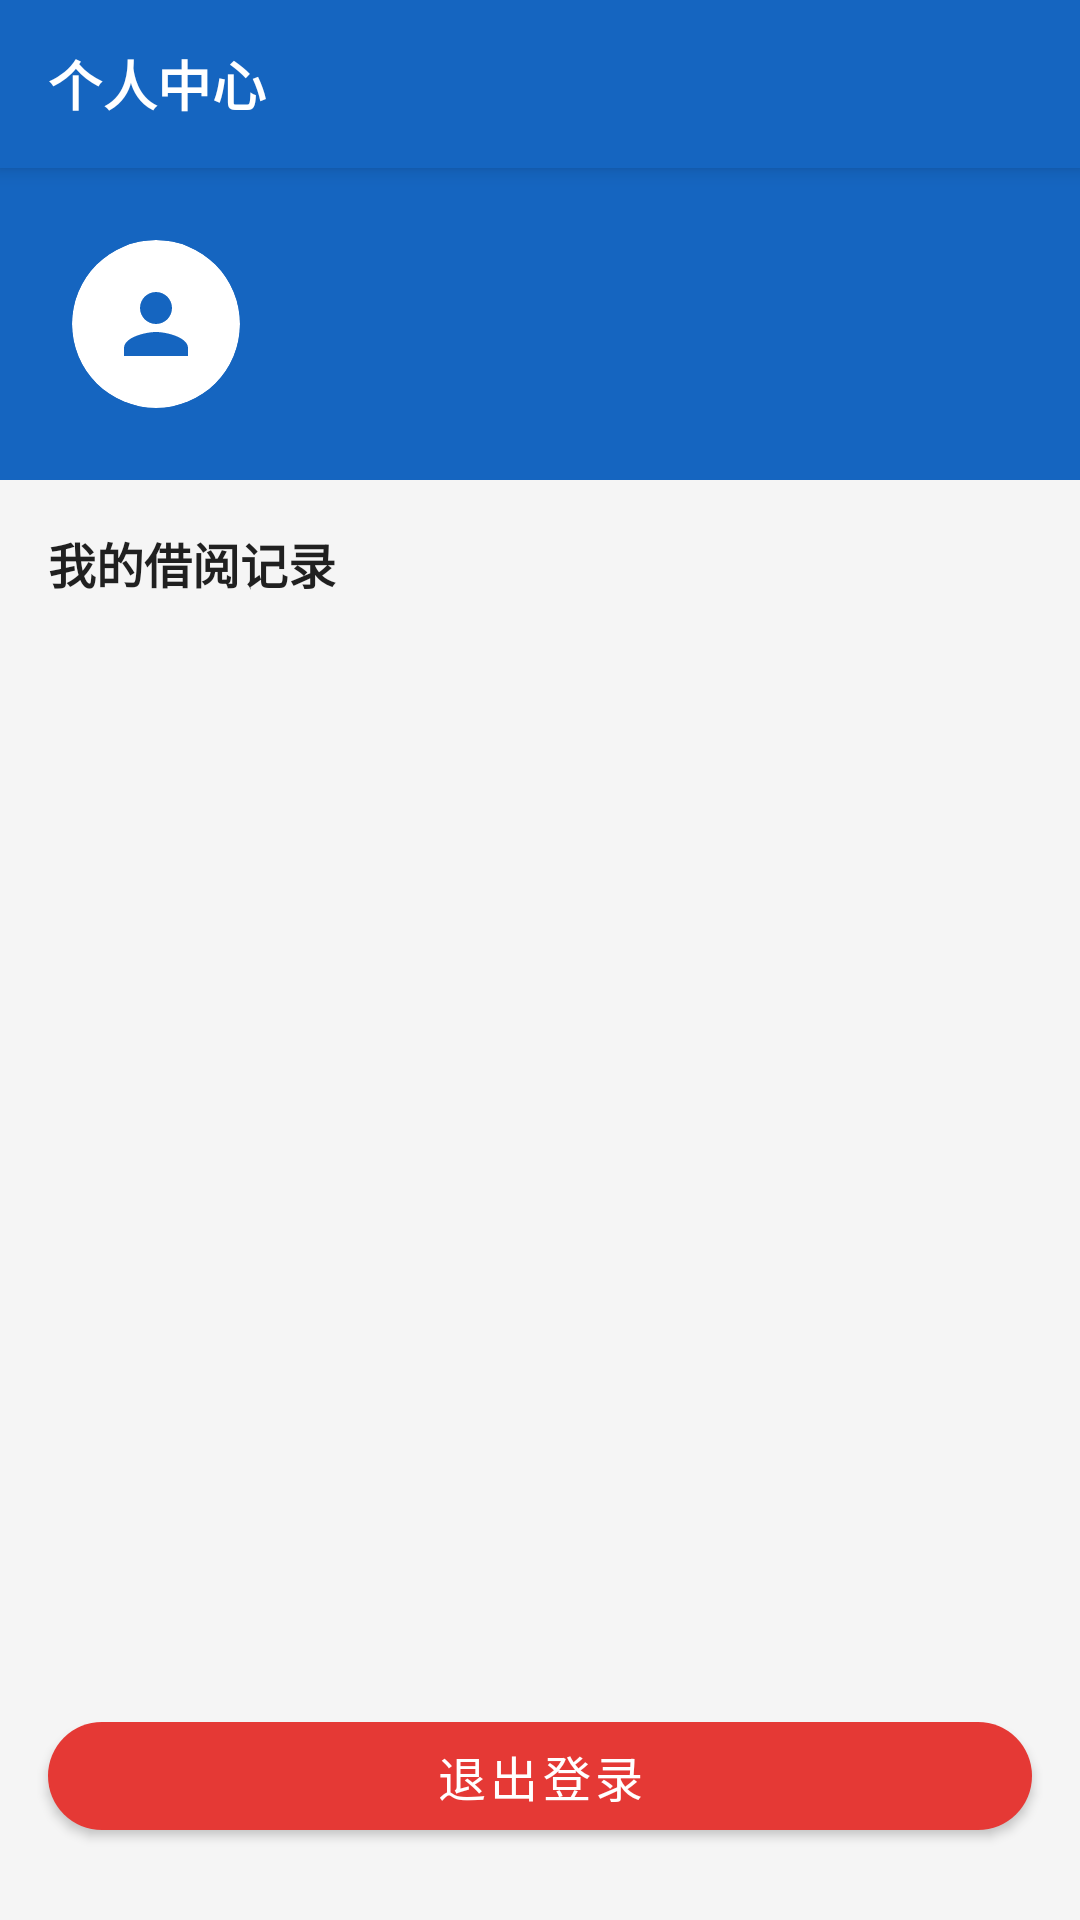

Named icons in this screenshot (1080 x 1920) and their centers, [x,y]:
头像: [156,324]
